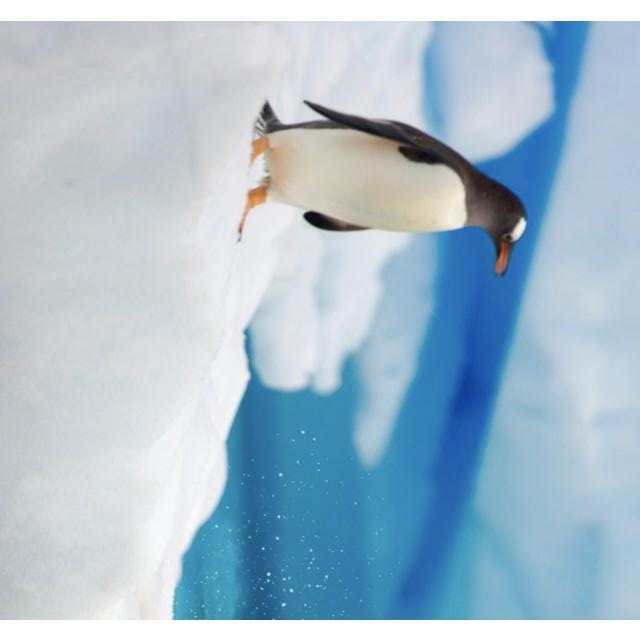penguin: (236, 97, 528, 279)
